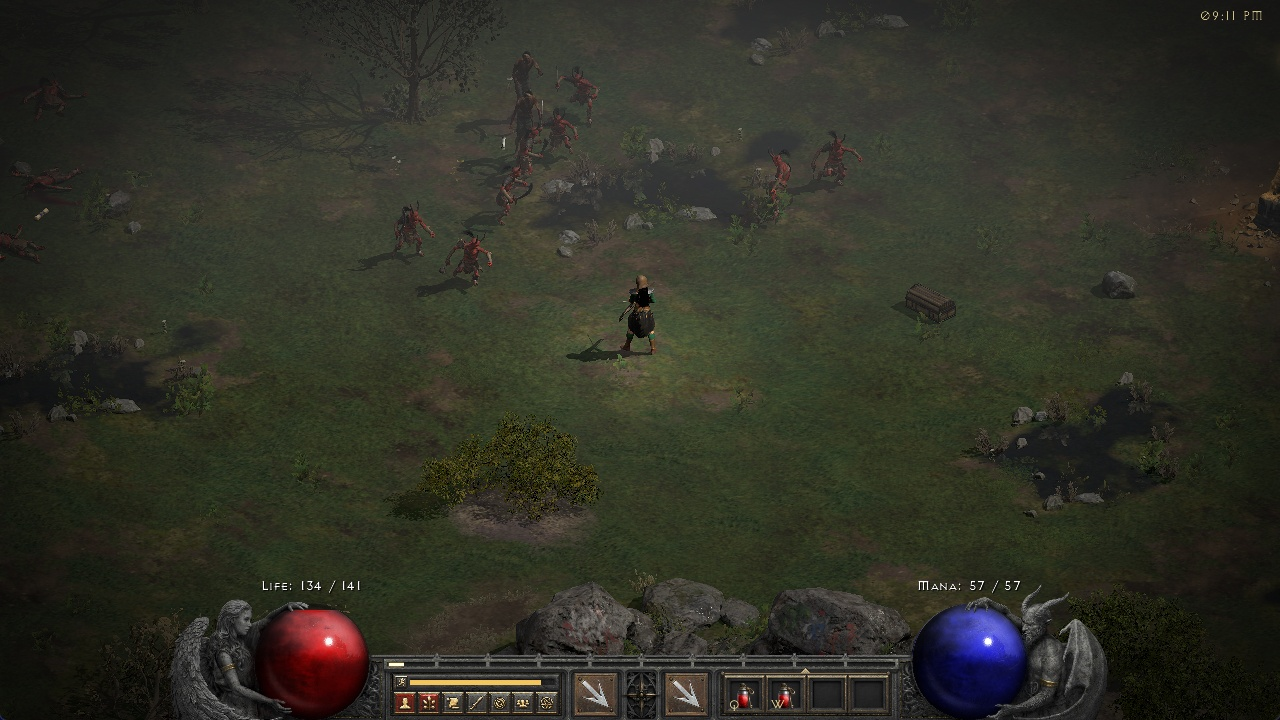fallen: (443, 235, 515, 285), (760, 150, 809, 221), (821, 134, 874, 187), (561, 64, 611, 112), (393, 206, 437, 254), (498, 168, 537, 222), (516, 125, 553, 169), (548, 112, 586, 149)
